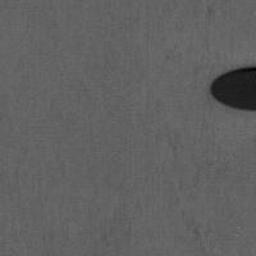Punching: (210, 67, 256, 111)
